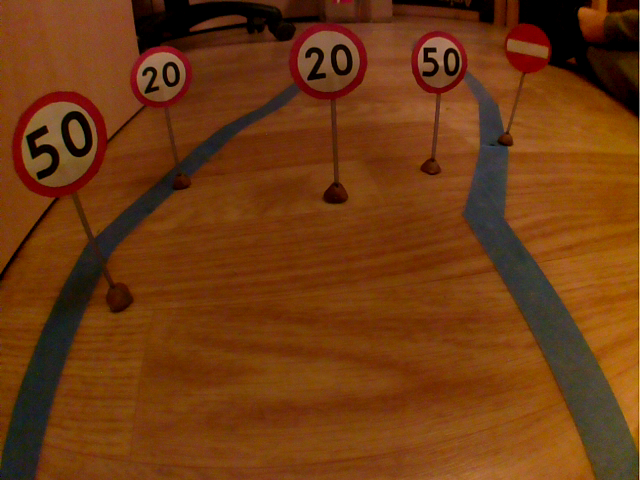Ograniczenie 20: (286, 20, 372, 103), (127, 43, 194, 111)
Ograniczenie 50: (9, 85, 112, 202), (406, 28, 471, 97)
Zakaz: (499, 20, 553, 79)
